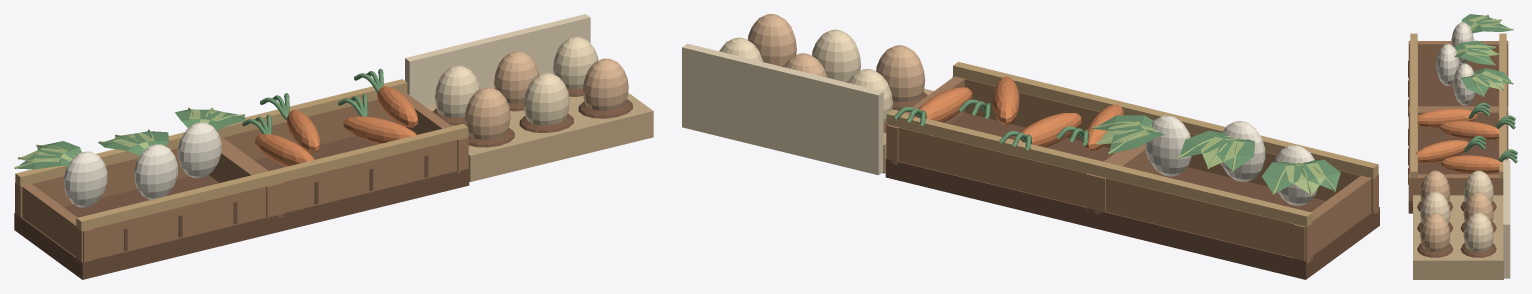
Rendered from park_kitchen_pantry_fresh.glb.
The picture shows the model from 3 angles, left to right: view 1: azimuth 30°, elevation 25°; view 2: azimuth 150°, elevation 25°; view 3: azimuth 270°, elevation 25°; orthographic projection. The views are drawn at different scales.
Visible parts, largest first — view 1: eggs__open_egg_carton_pulp_base, greens_crate__greens_base, eggs__open_egg_carton_flared_lid, greens_crate__greens_long_rail, roots_crate__roots_long_rail, roots_crate__roots_base, greens_crate__greens_upper_slatted_edge, roots_crate__roots_upper_slatted_edge, greens_crate__greens_end_rail, roots_crate__roots_long_rail.001, greens_crate__greens_long_rail.001, eggs__carton_egg_1_0 (+24 smaller); view 2: eggs__open_egg_carton_flared_lid, greens_crate__greens_base, greens_crate__greens_long_rail.001, roots_crate__roots_long_rail.001, roots_crate__roots_base, greens_crate__greens_upper_slatted_edge.001, roots_crate__roots_upper_slatted_edge.001, greens_crate__greens_end_rail, roots_crate__roots_upper_slatted_edge, roots_crate__roots_long_rail, eggs__carton_egg_0_0, greens__bok_choy_2_white_stem (+25 smaller); view 3: eggs__open_egg_carton_pulp_base, greens_crate__greens_base, roots_crate__roots_base, greens_crate__greens_end_rail, eggs__carton_egg_2_0, eggs__carton_egg_2_1, eggs__open_egg_carton_flared_lid, roots__carrot_3_tapered_body, roots__carrot_1_tapered_body, roots__carrot_2_tapered_body, roots__carrot_0_tapered_body, greens__bok_choy_1_white_stem (+31 smaller).
Part boxes in pixels (x1,y1,x2,y2): eggs__open_egg_carton_pulp_base: (425,92,653,181); greens_crate__greens_base: (14,175,278,279); eggs__open_egg_carton_flared_lid: (405,14,590,106); greens_crate__greens_long_rail: (76,183,277,265); roots_crate__roots_long_rail: (284,137,468,212); roots_crate__roots_base: (255,136,469,231); greens_crate__greens_upper_slatted_edge: (76,170,277,231); roots_crate__roots_upper_slatted_edge: (269,123,468,183); greens_crate__greens_end_rail: (22,184,93,265); roots_crate__roots_long_rail.001: (220,92,407,160); greens_crate__greens_long_rail.001: (15,148,189,220); eggs__carton_egg_1_0: (523,73,569,125); eggs__open_egg_carton_flared_lid: (682,43,883,175); greens_crate__greens_base: (1093,167,1379,279); greens_crate__greens_long_rail.001: (1094,175,1312,263); roots_crate__roots_long_rail.001: (886,124,1086,206); roots_crate__roots_base: (885,113,1115,228); greens_crate__greens_upper_slatted_edge.001: (1094,161,1312,226); roots_crate__roots_upper_slatted_edge.001: (886,110,1099,176); greens_crate__greens_end_rail: (1293,175,1371,260); roots_crate__roots_upper_slatted_edge: (953,62,1165,120); roots_crate__roots_long_rail: (952,76,1111,147); eggs__carton_egg_0_0: (876,45,925,102); greens__bok_choy_2_white_stem: (1145,115,1191,176); eggs__open_egg_carton_pulp_base: (1413,195,1503,279); greens_crate__greens_base: (1408,67,1508,106); roots_crate__roots_base: (1408,135,1508,213); greens_crate__greens_end_rail: (1408,41,1508,66); eggs__carton_egg_2_0: (1420,212,1450,251); eggs__carton_egg_2_1: (1463,212,1493,251); eggs__open_egg_carton_flared_lid: (1503,160,1510,278); roots__carrot_3_tapered_body: (1441,155,1502,174); roots__carrot_1_tapered_body: (1440,121,1499,140); roots__carrot_2_tapered_body: (1415,140,1468,162); roots__carrot_0_tapered_body: (1417,108,1477,127); greens__bok_choy_1_white_stem: (1436,44,1459,85).
Bounding box in the file's own units: 2.34 × 0.3445 × 0.5178.
